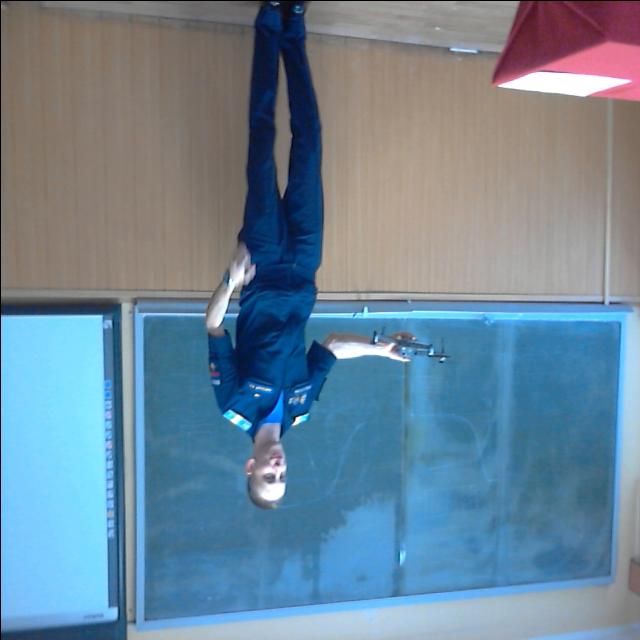drone: (358, 318, 459, 381)
